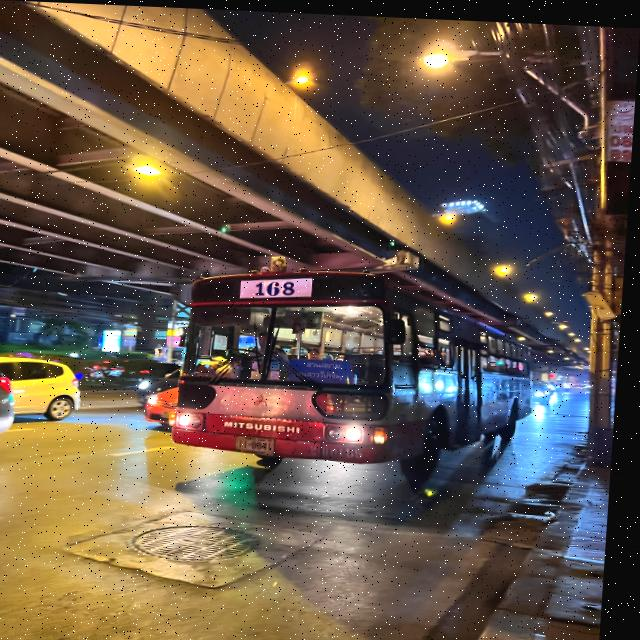BMTA-bus: (174, 265, 541, 490)
Bus-Line-Number: (255, 278, 304, 297)
Destination-Sign-Normal: (293, 355, 361, 384)
